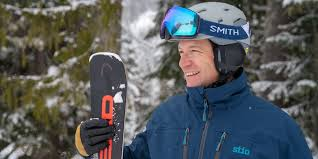skis: (85, 51, 129, 159)
